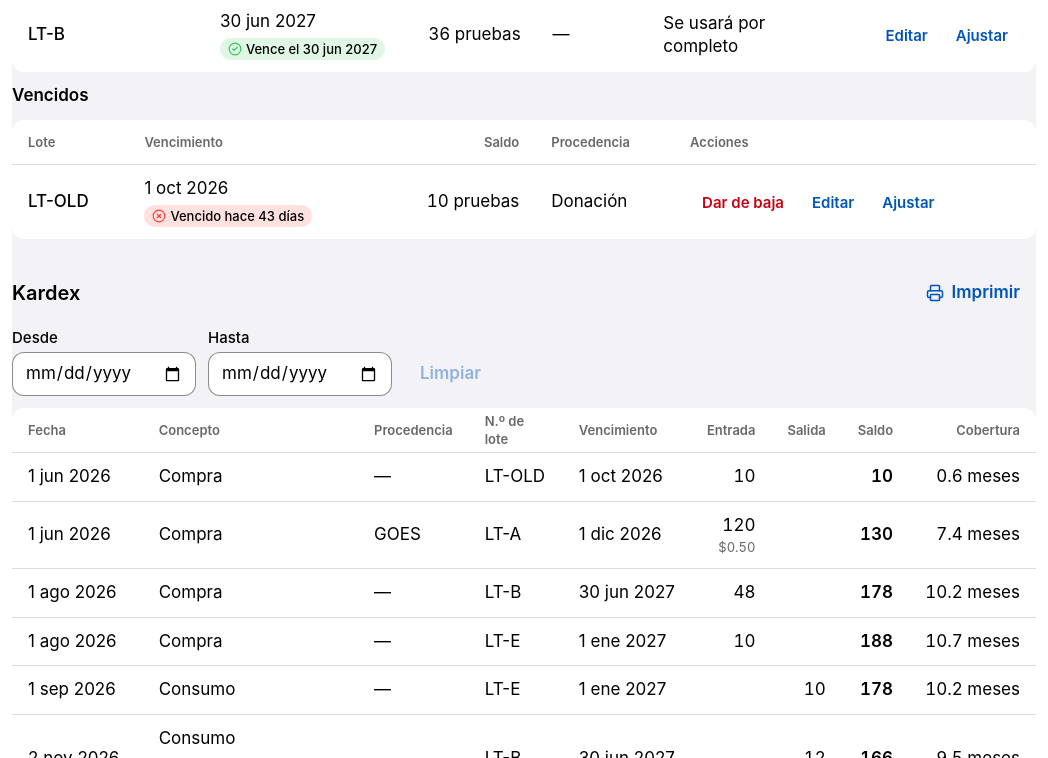
Scenario: ProductDetailPage › ledger › filters by date, keeps the true balance and clears the filter
(page scrolled)
Expected: the button "Limpiar" is disabled, [404,352,497,396]
In the date field labelled "Desde": [104, 374] box [12,352,196,396], type "2026-11-01"
(page scrolled)
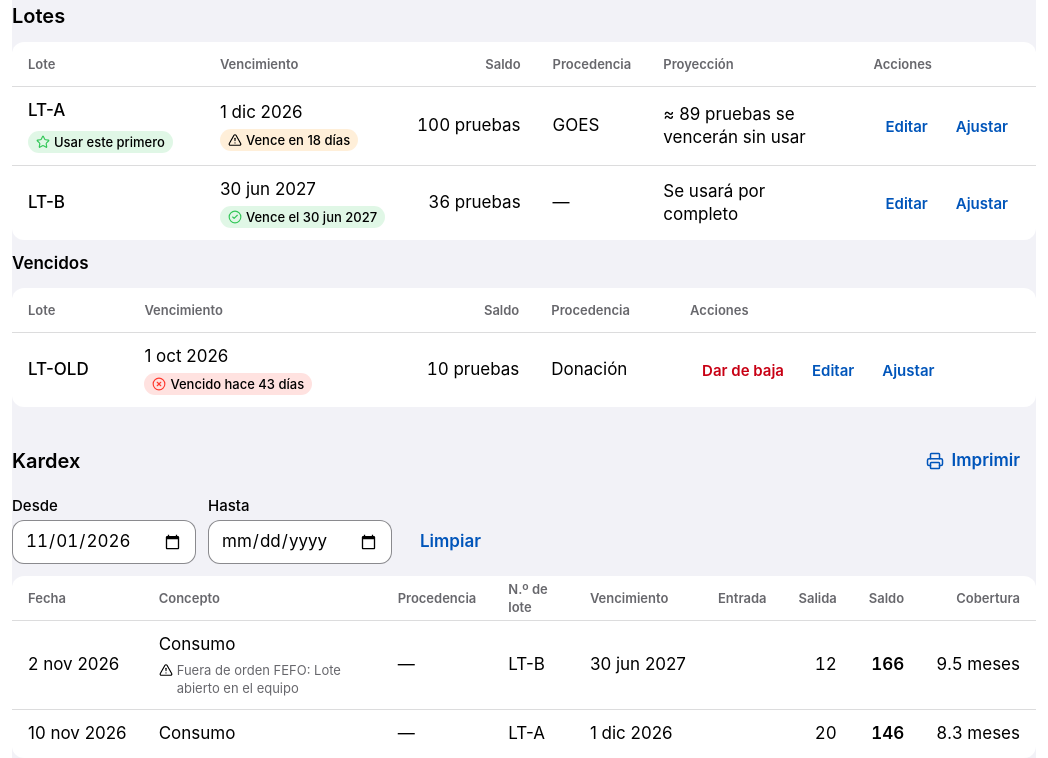
Expected: the cell "166" is shown, [853,621,920,710]
In the date field labelled "Hasta": [300, 542] box [208,520,392,564], type "2026-11-05"
(page scrolled)
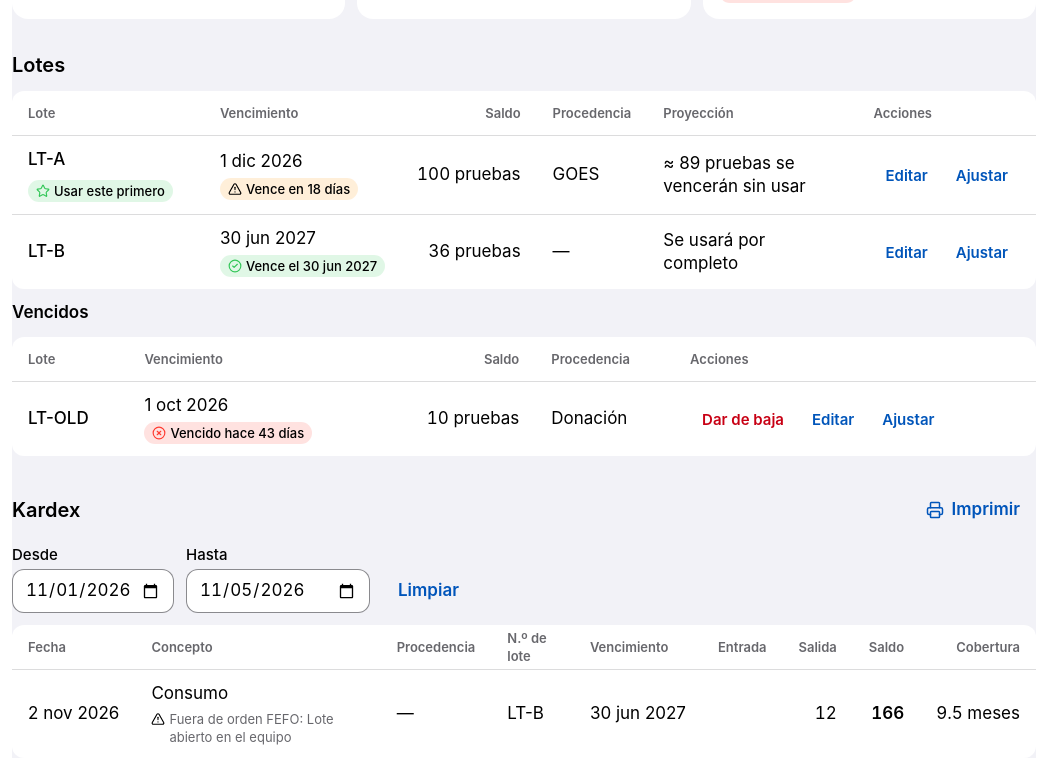
Click the button "Limpiar": [428, 591] box [382,569,475,613]
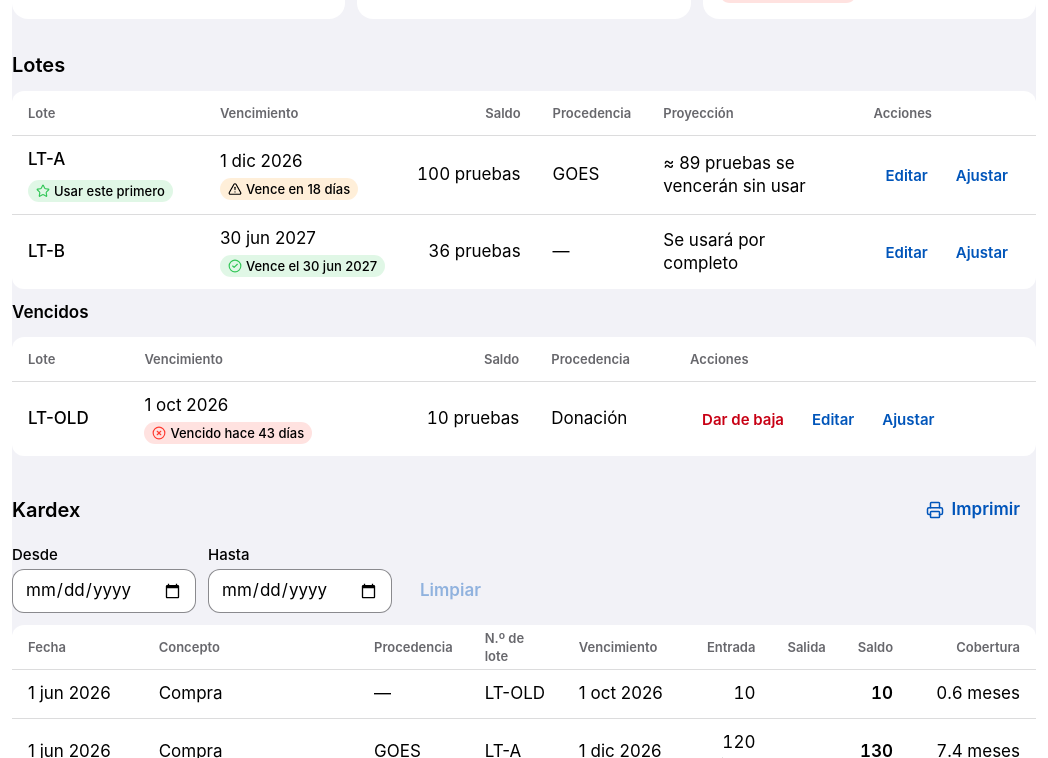
Expected: the date field labelled "Desde" is empty, [12,569,196,613]
